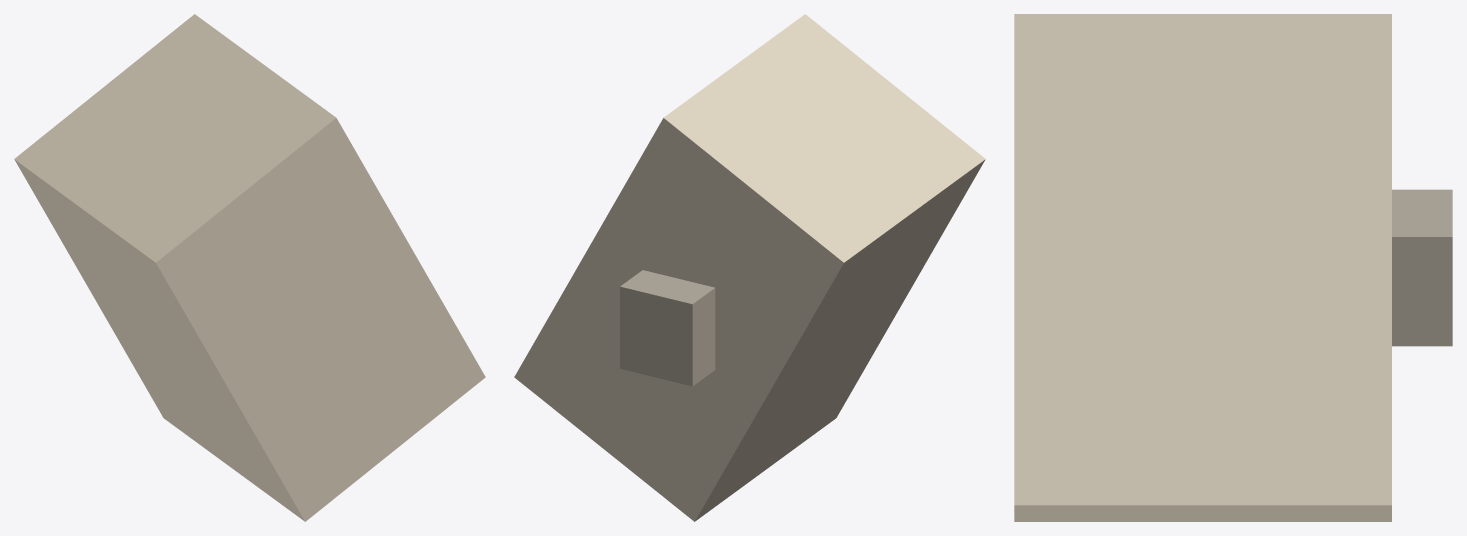
Rendered from historic-palestine-06_14_3484_3082.glb.
The picture shows the model from 3 angles, left to right: view 1: azimuth 30°, elevation 25°; view 2: azimuth 150°, elevation 25°; view 3: azimuth 270°, elevation 25°; orthographic projection. The views are drawn at different scales.
Visible parts, largest first — view 1: Building_; view 2: Building_, Roof access hut; view 3: Building_, Roof access hut.
Boxes of the visible parts, left/top/right/bottom form: Building_: left=14, top=14, right=485, bottom=521; Building_: left=514, top=14, right=985, bottom=521; Roof access hut: left=620, top=270, right=715, bottom=386; Building_: left=1014, top=14, right=1391, bottom=521; Roof access hut: left=1392, top=189, right=1452, bottom=346.
Size of the model in its own units: 10.07 by 11.57 by 8.7.
